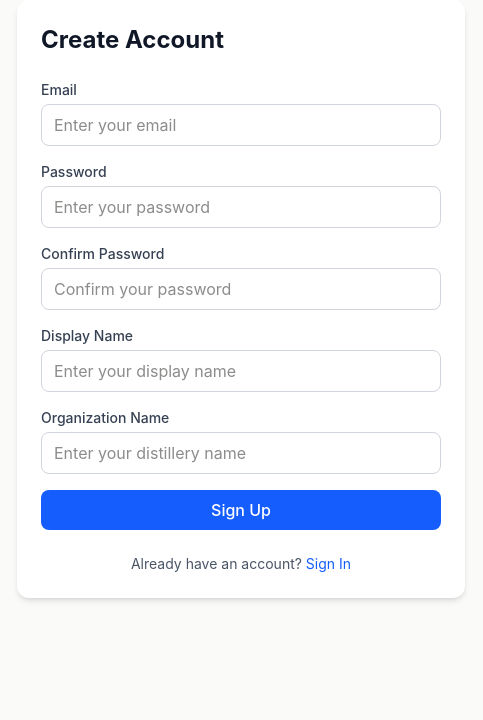
SignUpForm › should show error for password less than 6 characters
Type "12345" into the password field labelled "Password".
click(241, 207); type("12345")  # box [41,186,441,228]
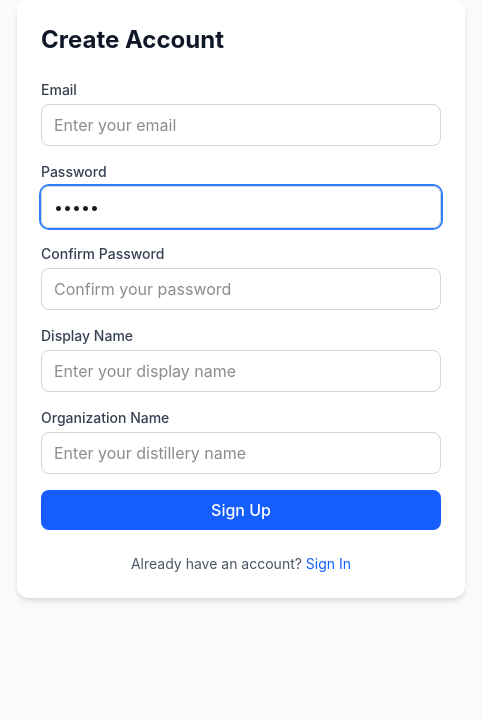
Click the button "Sign Up".
click(241, 510)  # box [41,490,441,530]
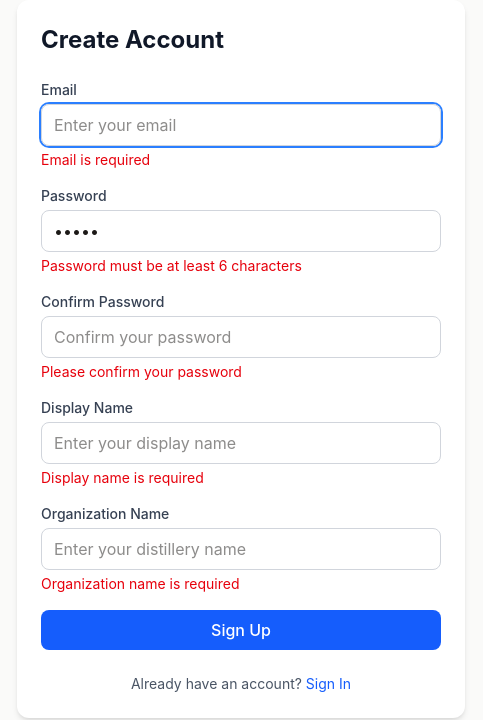
expect the text "Password must be at least 6 characters" is shown: met, box [41,257,302,274]
